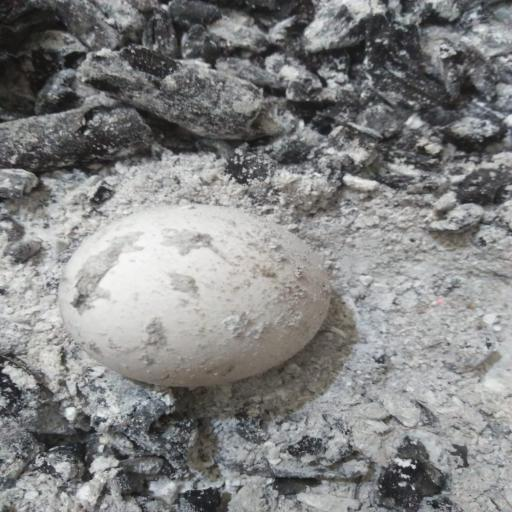telur: (57, 199, 342, 394)
